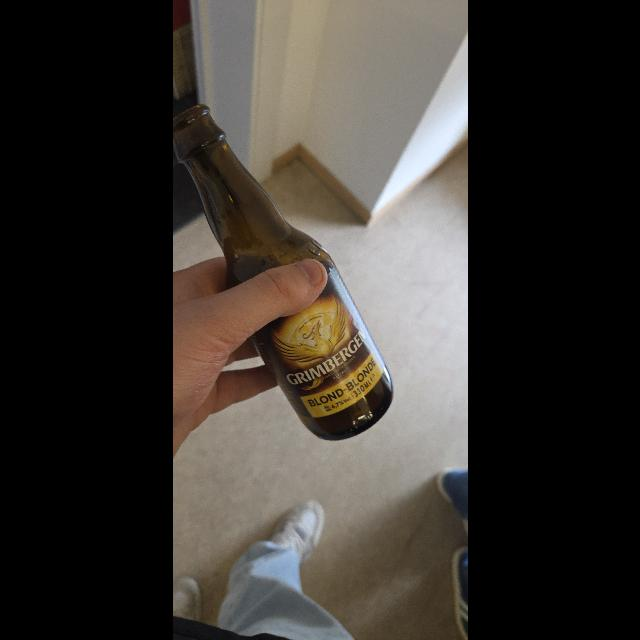Glass: (172, 101, 396, 445)
